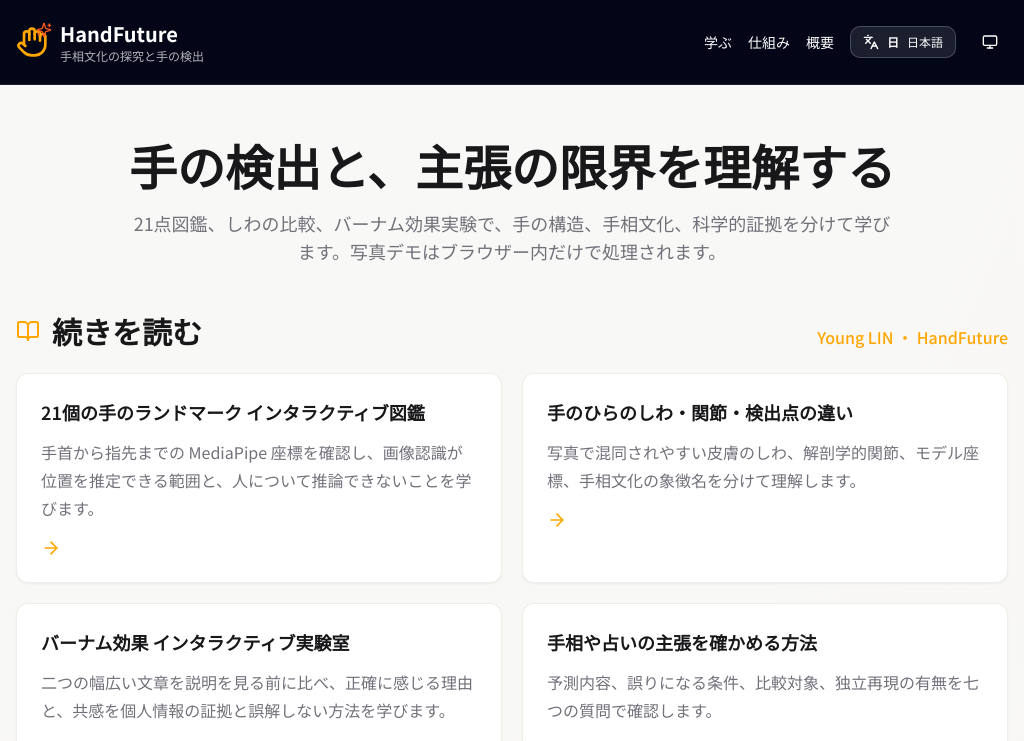
Scenario: LocaleRouter › marks a manual language choice explicit and stays on the same page
Expected: the heading "手の検出と、主張の限界を理解する" is shown, [128,141,896,189]
Press the mouse on the button "日 日本語" at (903, 42), box [850,26,956,58]
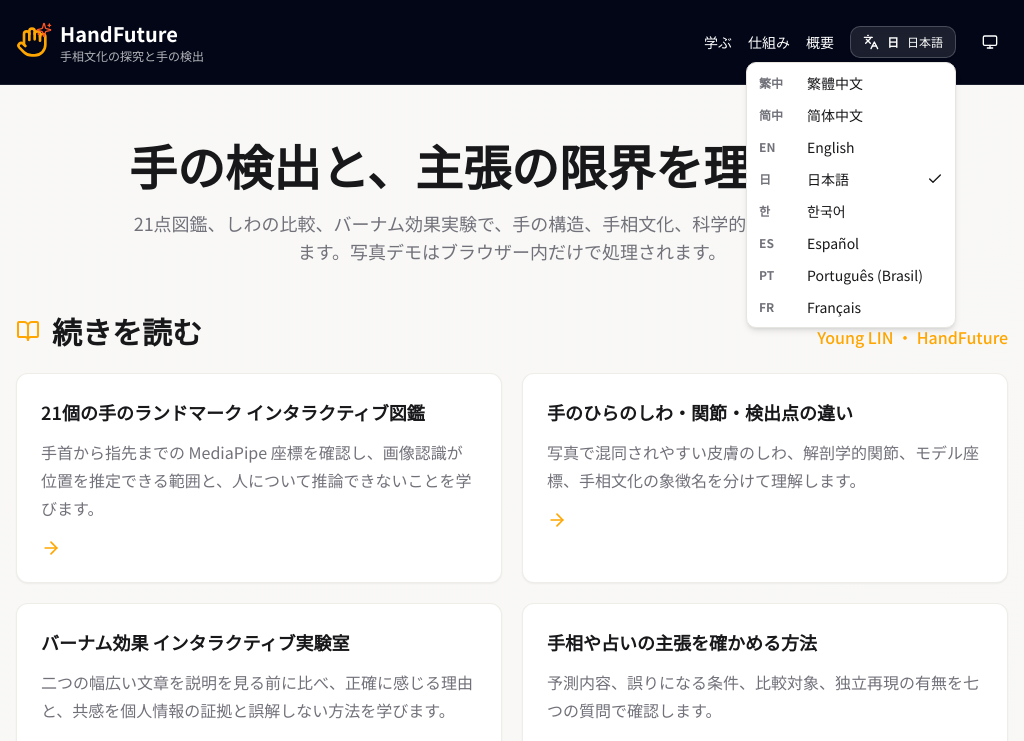
Click the menu item "FR Français" at (810, 307), box [759,297,861,317]
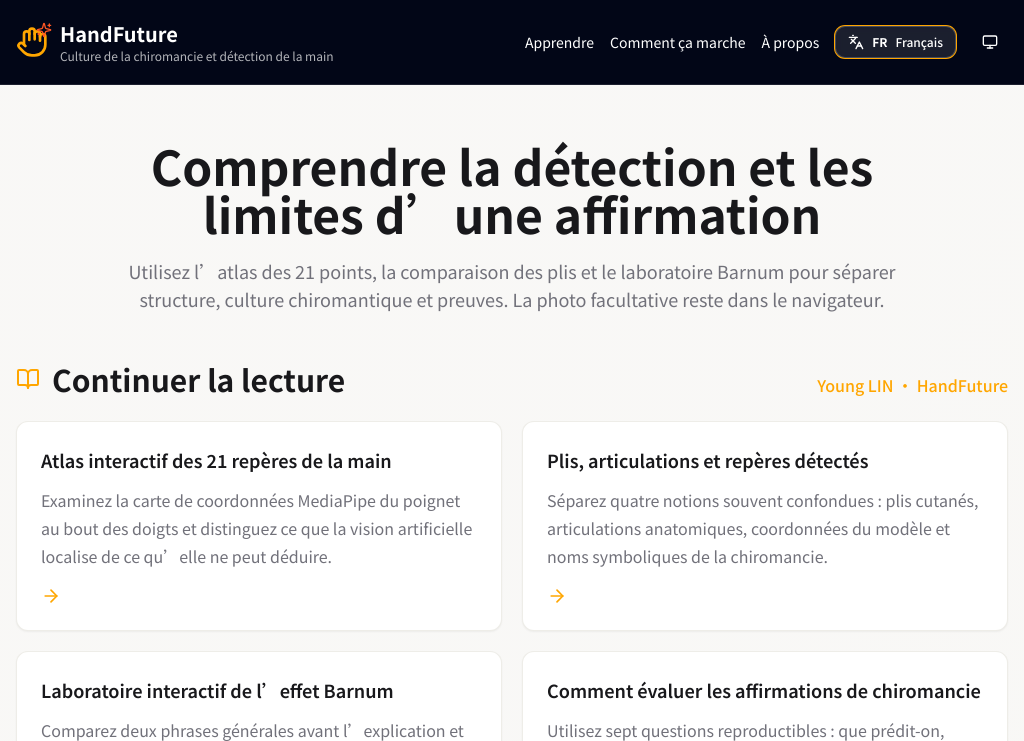
Now the heading "Comprendre la détection et les limites d’une affirmation" is shown, box [128,141,896,237]
